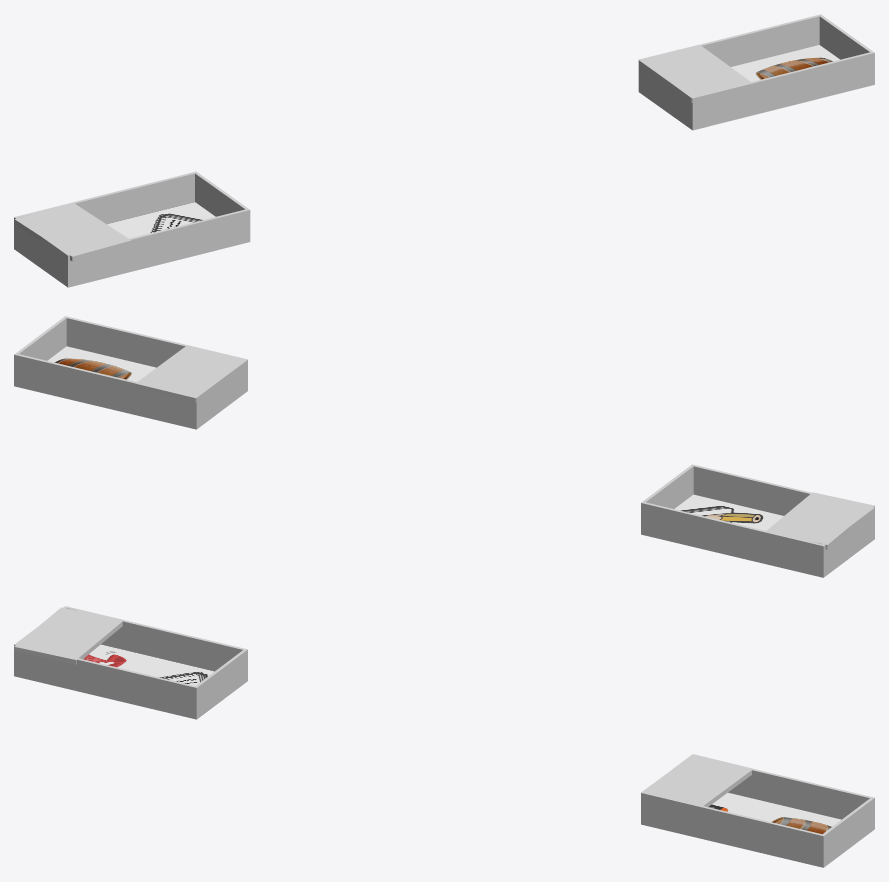
File: bintapadod.dae
3 renders of one model, top to bottom at view 1: azimuth 30°, elevation 25°; view 2: azimuth 150°, elevation 25°; view 3: azimuth 330°, elevation 25°, orthographic.
Parts seen in each view (by area): view 1: Cube.007, Cube.002, Cube.001, Cube.006; view 2: Cube.002, Cube.007, Cube.006, Cube.001; view 3: Cube.007, Cube.002, Cube.001, Cube.006.
Boxes of the visible parts, <box> form: Cube.007: <box>638,14,874,130</box>; Cube.002: <box>14,171,250,287</box>; Cube.001: <box>14,203,131,261</box>; Cube.006: <box>638,44,752,102</box>; Cube.002: <box>641,464,874,577</box>; Cube.007: <box>14,316,247,429</box>; Cube.006: <box>135,345,247,402</box>; Cube.001: <box>765,492,874,549</box>; Cube.007: <box>641,754,874,867</box>; Cube.002: <box>14,606,247,719</box>; Cube.001: <box>14,607,122,664</box>; Cube.006: <box>641,754,753,806</box>.
Size of the model in its own units: 2.67 by 0.3469 by 0.1.
Materials: 4 (2 with a texture image).
